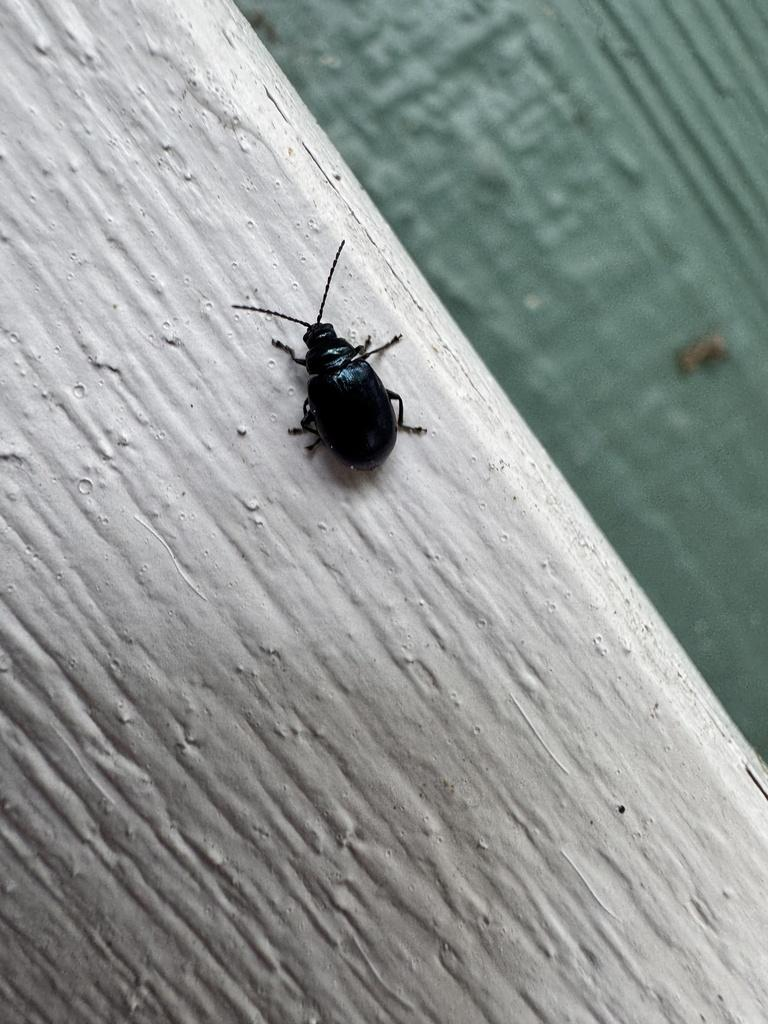flea_beetle: (174, 212, 500, 548)
